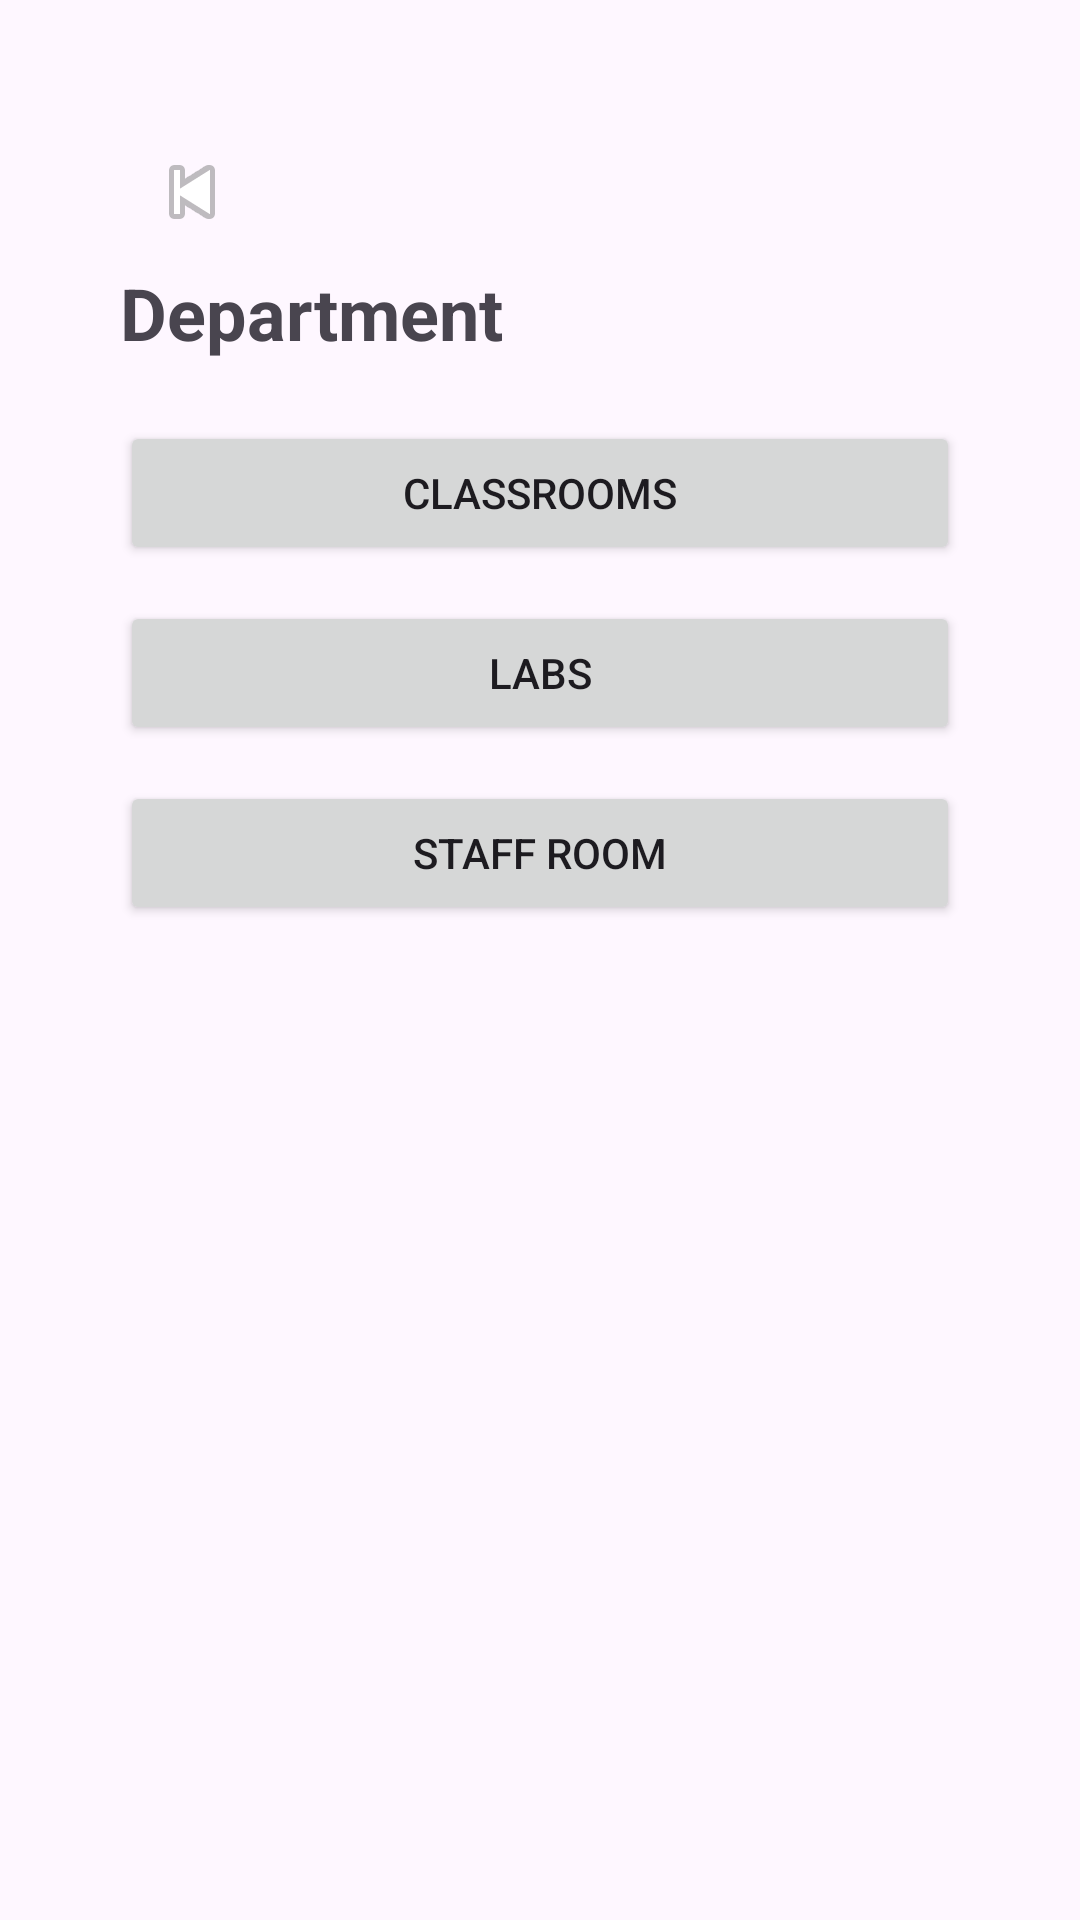

Locate icon controls on the screen. Image size 1080 × 1920, boxes as (x1, y1, x2, y2).
previous: (169, 165, 215, 219)
